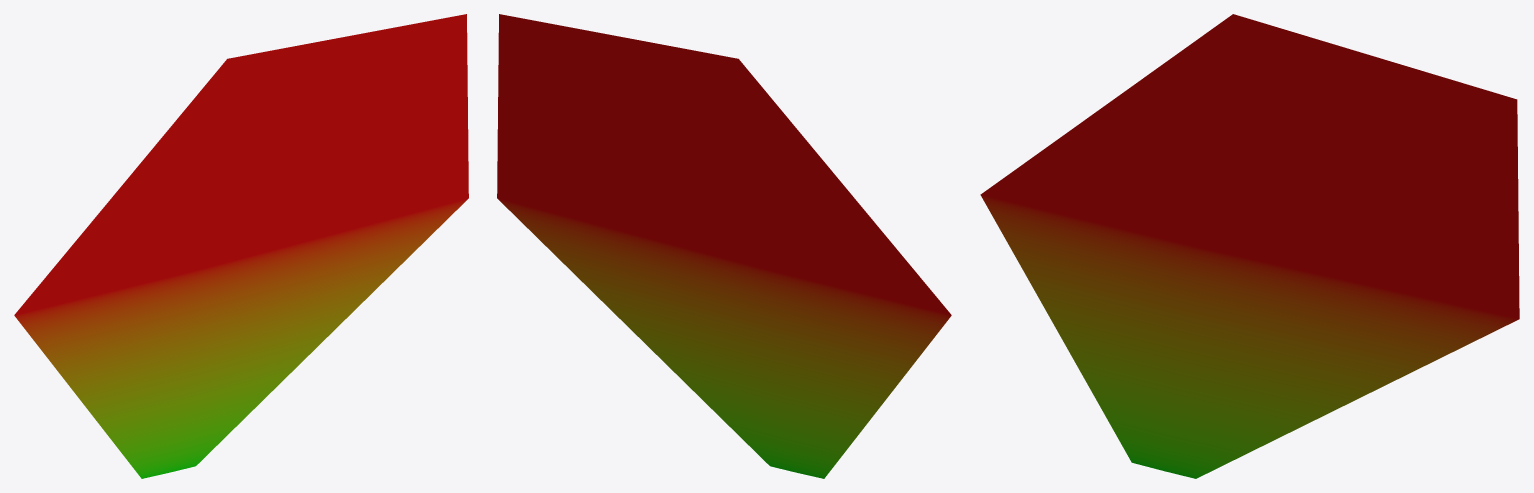
Rendered from Black Locust_LOD4_Var4.fbx.
3 views of the same model, side by side, from view 1: azimuth 30°, elevation 25°; view 2: azimuth 150°, elevation 25°; view 3: azimuth 330°, elevation 25° (orthographic). The views are drawn at different scales.
Parts seen in each view (by area): view 1: _8o0c_Var4_LOD4; view 2: _8o0c_Var4_LOD4; view 3: _8o0c_Var4_LOD4.
Boxes of the visible parts, bbox=[...] form: _8o0c_Var4_LOD4: bbox=[14, 14, 468, 478]; _8o0c_Var4_LOD4: bbox=[497, 14, 951, 478]; _8o0c_Var4_LOD4: bbox=[980, 14, 1519, 478].
Size of the model in its own units: 49.82 by 41.85 by 9.46e-11.
